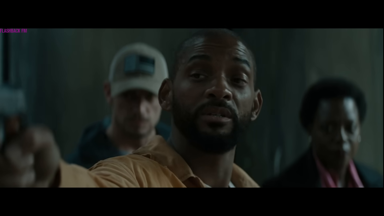firearm: (1, 85, 32, 125)
